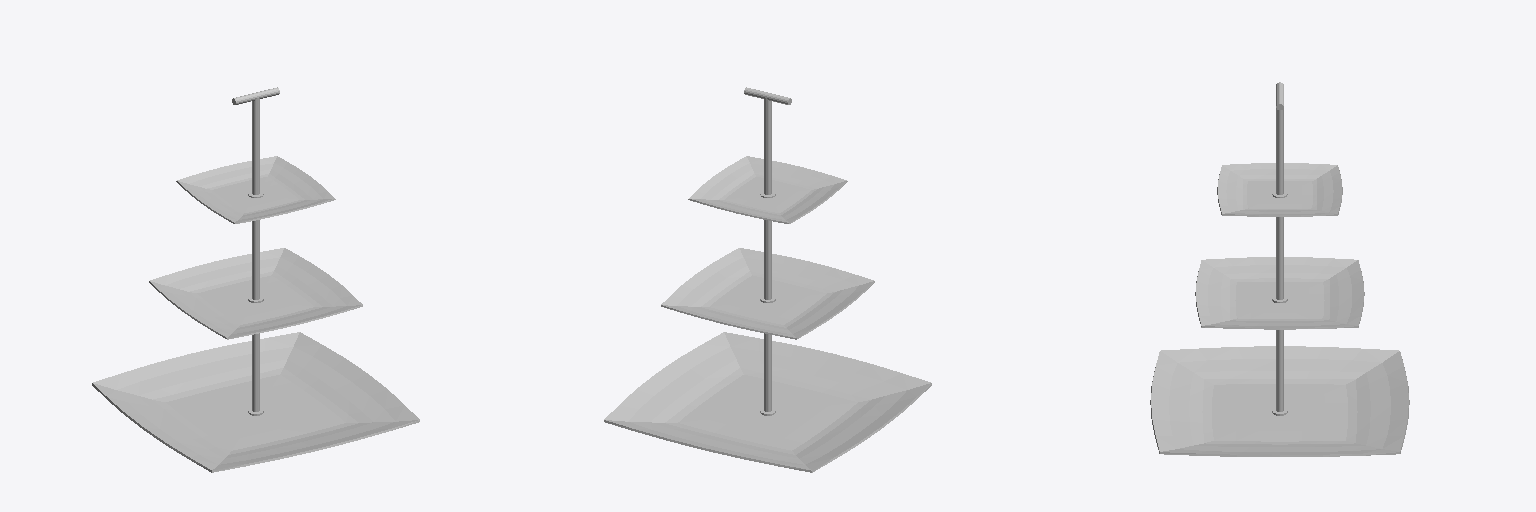
File: Etagere3.obj
The picture shows the model from 3 angles: view 1: azimuth 30°, elevation 25°; view 2: azimuth 150°, elevation 25°; view 3: azimuth 270°, elevation 25°; orthographic projection.
Visible parts, largest first — view 1: Etagere3; view 2: Etagere3; view 3: Etagere3.
Part boxes in pixels (x1,y1,x2,y2): Etagere3: (92, 87, 419, 472); Etagere3: (604, 87, 931, 472); Etagere3: (1150, 82, 1409, 456).
Size of the model in its own units: 7.91 by 10.98 by 7.91.